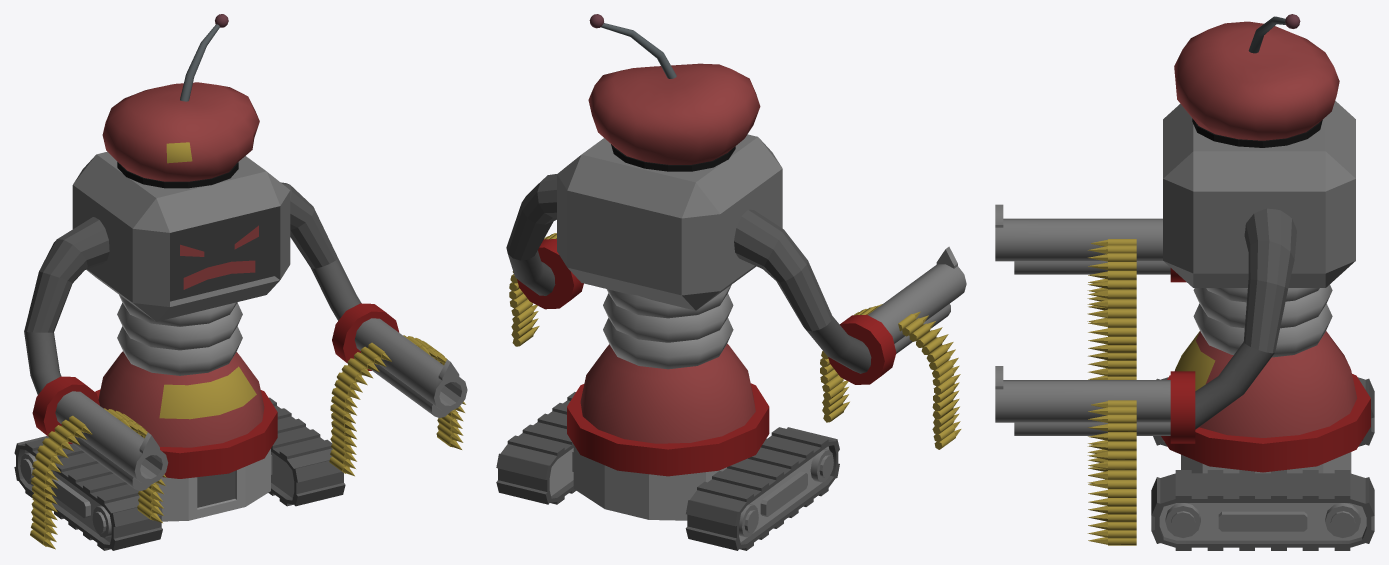
File: EnemyRobotModel.FBX
The picture shows the model from 3 angles, left to right: view 1: azimuth 30°, elevation 25°; view 2: azimuth 150°, elevation 25°; view 3: azimuth 270°, elevation 25°; orthographic projection. The views are drawn at different scales.
Parts seen in each view (by area): view 1: RotatingHead, Tire; view 2: RotatingHead, Tire; view 3: RotatingHead, Tire.
Part boxes in pixels (x1,y1,x2,y2): RotatingHead: (24, 14, 467, 549); Tire: (14, 351, 345, 550); RotatingHead: (506, 14, 966, 449); Tire: (496, 343, 839, 550); RotatingHead: (995, 14, 1355, 545); Tire: (1151, 331, 1374, 550).
Bounding box in the file's own units: 99.52 × 104 × 70.86.
